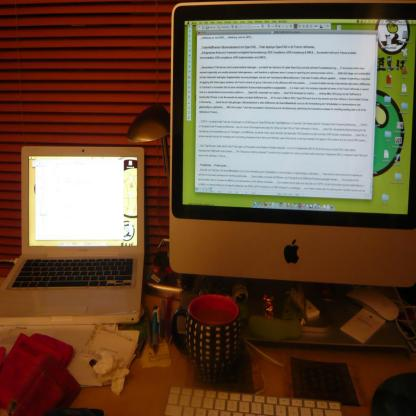board: (0, 144, 144, 325)
